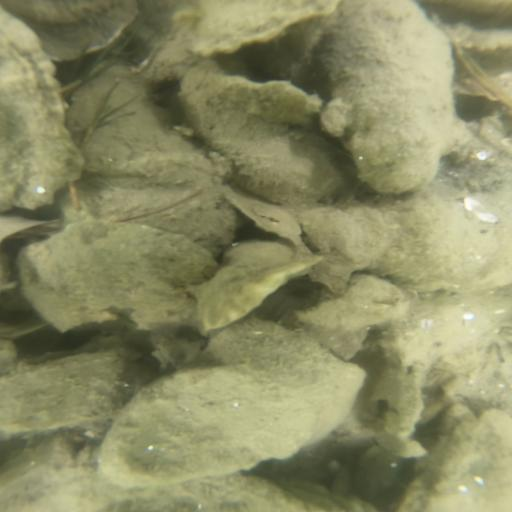Oyster-Closed: (103, 318, 366, 485), (60, 73, 235, 257), (318, 1, 465, 194), (11, 216, 223, 332), (181, 72, 338, 207), (157, 2, 342, 70), (195, 255, 330, 340), (426, 409, 512, 512), (220, 72, 331, 130), (294, 275, 404, 330), (302, 208, 391, 269)
Oyster-Open: (1, 6, 86, 214), (1, 335, 138, 436)
